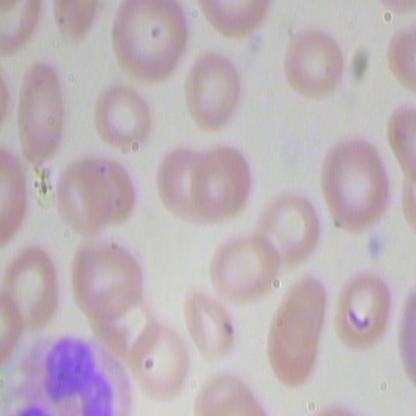RBC: (317, 127, 392, 238), (103, 1, 197, 83), (207, 224, 282, 310), (250, 185, 325, 271), (326, 261, 400, 348), (68, 237, 144, 319), (122, 319, 198, 401), (181, 50, 250, 134), (189, 137, 257, 221), (176, 277, 244, 361), (15, 58, 66, 166), (47, 159, 111, 238), (147, 140, 207, 224), (76, 151, 139, 230), (86, 83, 154, 155), (284, 25, 345, 99), (271, 272, 332, 346), (263, 316, 324, 390)
WBC: (14, 333, 142, 415)
